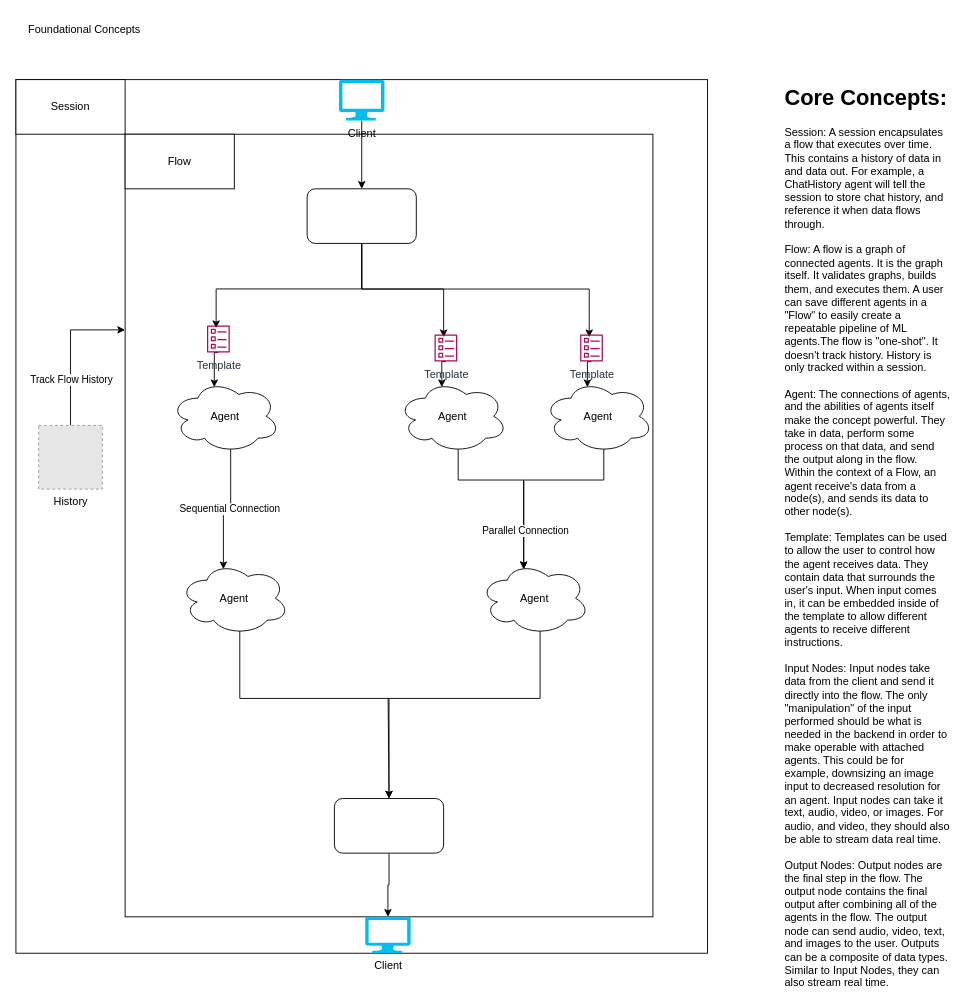
This 969x1005 diagram has some shape labels left out. Grey dashed boxes stand in for pictures. Each missing label, with the centre of its shape:
"Input - Text, Audio, Image, Video" belongs at point 361,215.
"Output: - Text, Audio, Image, Video" belongs at point 389,825.
